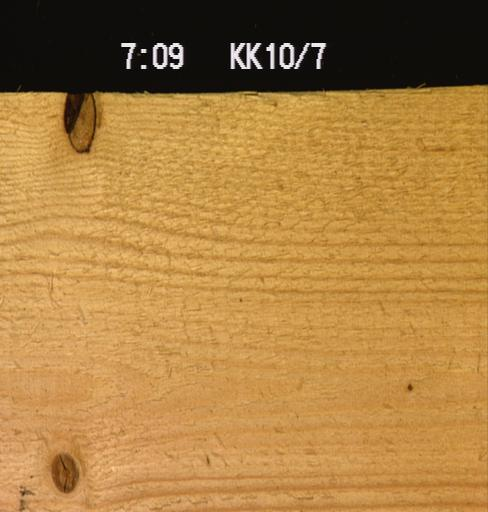small_knot: (365, 335, 425, 395)
sound_knot: (49, 450, 80, 493)
